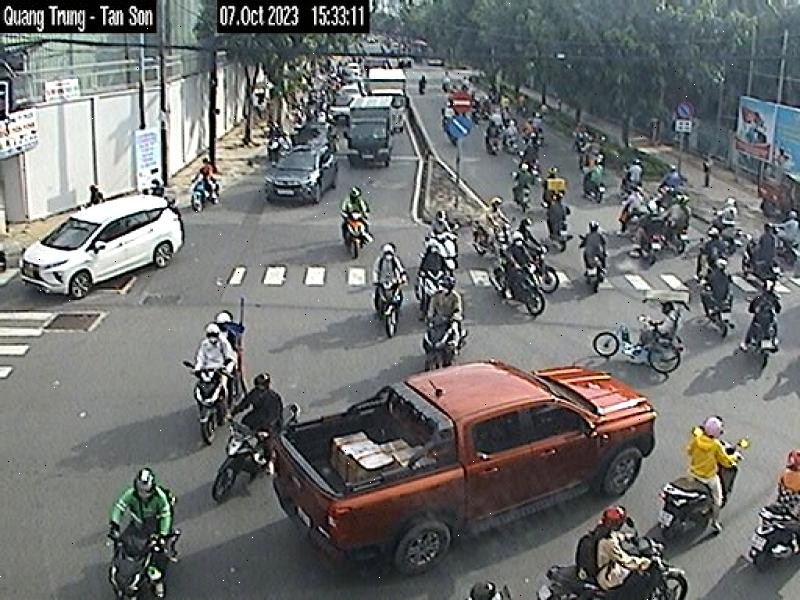car: (254, 355, 662, 581), (7, 184, 218, 301), (256, 142, 340, 202)
motorcycle: (515, 539, 694, 600), (209, 405, 312, 491), (650, 446, 741, 539), (98, 525, 202, 600), (484, 258, 553, 327), (747, 491, 800, 574), (186, 361, 238, 435), (415, 312, 475, 367), (693, 274, 733, 340), (744, 301, 782, 369), (373, 282, 411, 340), (331, 210, 371, 254), (579, 254, 611, 290)
truck: (342, 99, 402, 170), (365, 68, 410, 132)
